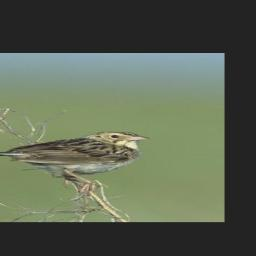Sparrow: (0, 128, 159, 196)
